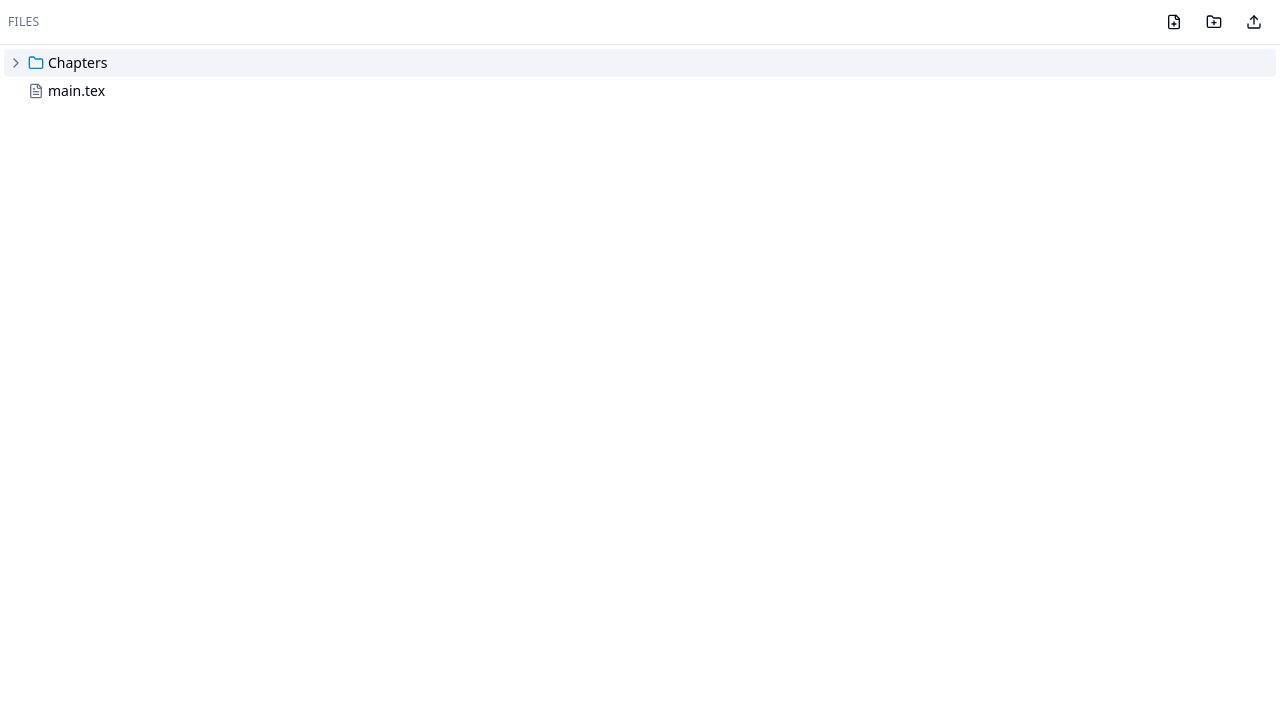
Test: FileTreePanel CRUD › blocks invalid create names
Expected: the text "main.tex" is shown, [48,81,105,100]
Click the button named "New folder".
click(1214, 22)  # box [1196,4,1232,40]
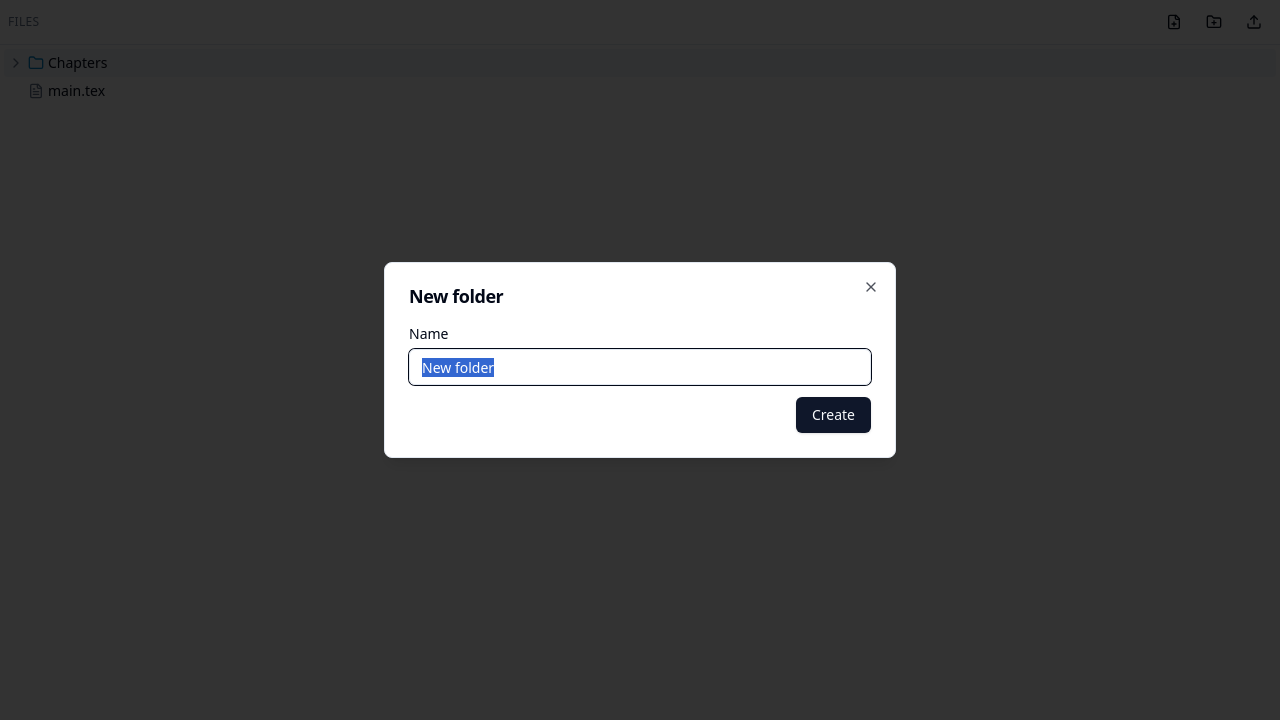
Replace the text in the field labelled "Name" with "a/b" at (640, 367), box [409,349,871,385]
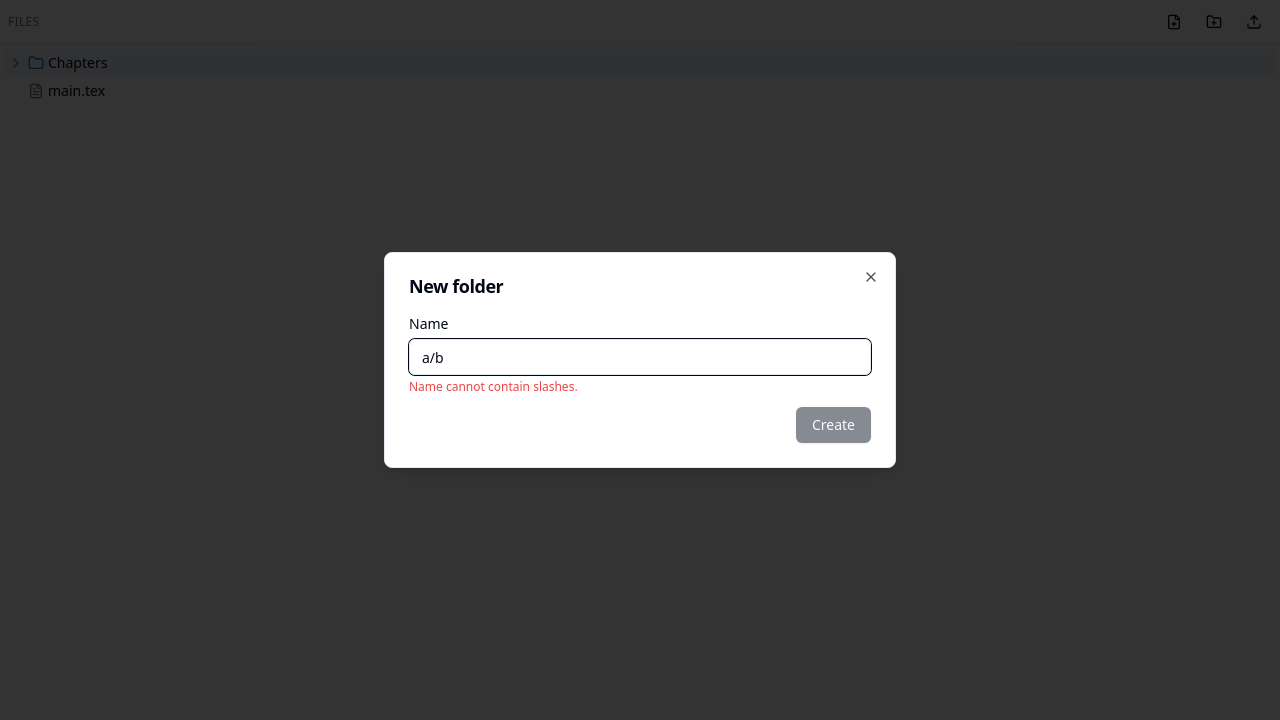
Expected: the button "Create" is disabled, [796,407,871,443]
Expected: the text "Name cannot contain slashes." is shown, [409,378,578,395]
